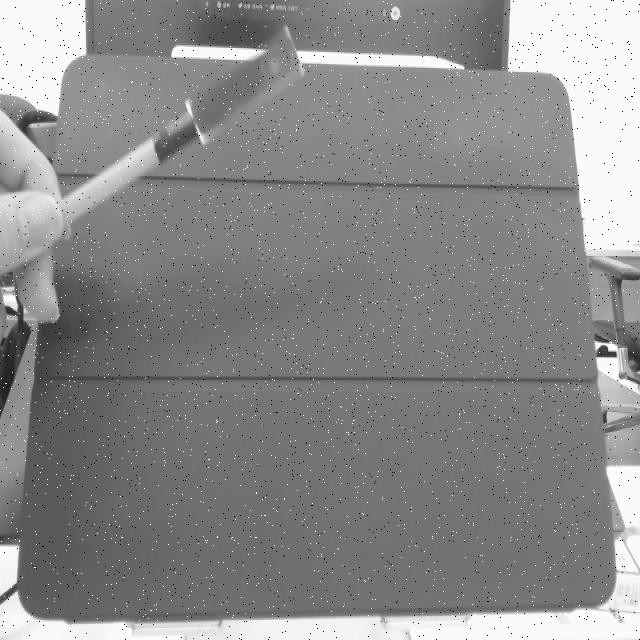traffic light: (186, 25, 304, 145)
